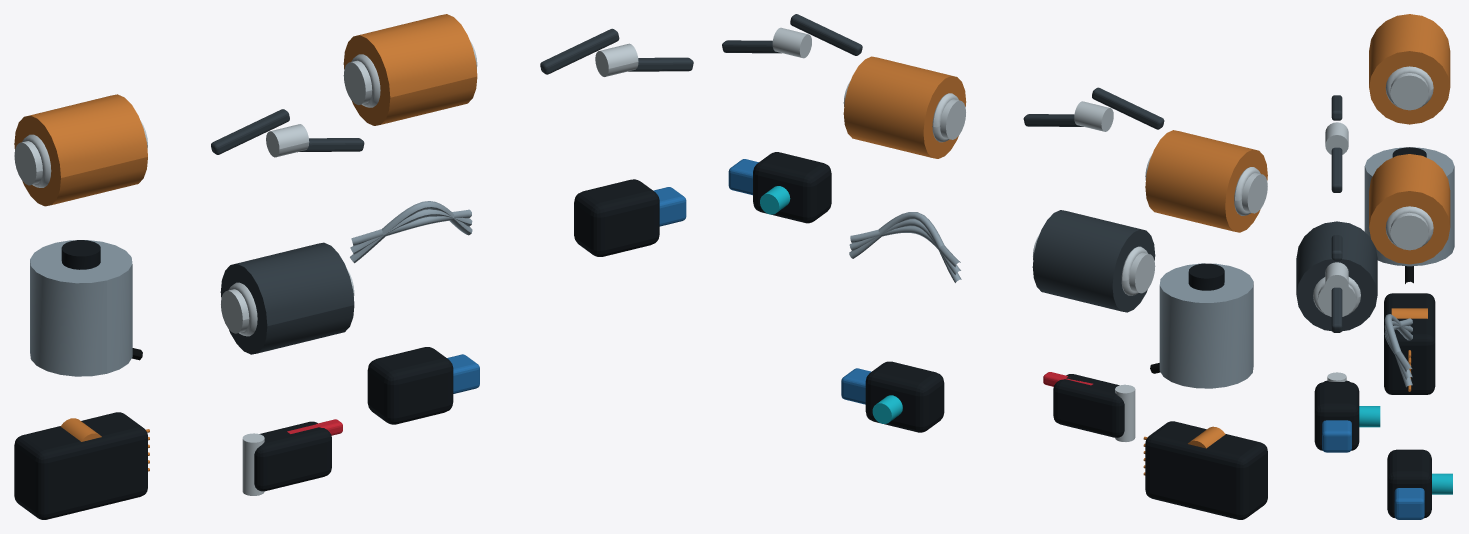
Rendered from generic_wipers.glb.
3 views of the same model, side by side, from view 1: azimuth 30°, elevation 25°; view 2: azimuth 150°, elevation 25°; view 3: azimuth 270°, elevation 25° (orthographic). The views are drawn at different scales.
Parts seen in each view (by area): view 1: system_mesh__washer_reservoir__reservoir, system_mesh__wiper_relay__housing, system_mesh__rear_wiper_motor__stator, system_mesh__front_wiper_motor__stator, system_mesh__washer_pumps__stator, system_mesh__rain_sensor__sealed_body, system_mesh__washer_level_sensor__sealed_body, system_mesh__multifunction_switch__body, system_mesh__rear_wiper_arm__left_link, system_mesh__wiper_linkage__left_link, system_mesh__rear_wiper_arm__pivot, system_mesh__wiper_linkage__pivot (+11 smaller); view 2: system_mesh__washer_reservoir__reservoir, system_mesh__wiper_relay__housing, system_mesh__rear_wiper_motor__stator, system_mesh__front_wiper_motor__stator, system_mesh__washer_pumps__stator, system_mesh__rain_sensor__sealed_body, system_mesh__washer_level_sensor__sealed_body, system_mesh__multifunction_switch__body, system_mesh__rear_wiper_arm__left_link, system_mesh__wiper_linkage__left_link, system_mesh__washer_hoses__route_1, system_mesh__wiper_linkage__pivot (+13 smaller); view 3: system_mesh__rear_wiper_motor__stator, system_mesh__front_wiper_motor__stator, system_mesh__washer_pumps__stator, system_mesh__wiper_relay__housing, system_mesh__washer_level_sensor__sealed_body, system_mesh__rain_sensor__sealed_body, system_mesh__washer_reservoir__reservoir, system_mesh__rear_wiper_motor__rotor, system_mesh__front_wiper_motor__rotor, system_mesh__washer_level_sensor__connector, system_mesh__rain_sensor__connector, system_mesh__washer_pumps__rotor (+16 smaller).
Boxes of the visible parts, x1=… form: system_mesh__washer_reservoir__reservoir: x1=30, y1=240, x2=132, y2=376; system_mesh__wiper_relay__housing: x1=14, y1=412, x2=147, y2=519; system_mesh__rear_wiper_motor__stator: x1=343, y1=14, x2=477, y2=125; system_mesh__front_wiper_motor__stator: x1=14, y1=94, x2=147, y2=206; system_mesh__washer_pumps__stator: x1=220, y1=242, x2=354, y2=354; system_mesh__rain_sensor__sealed_body: x1=367, y1=347, x2=453, y2=424; system_mesh__washer_level_sensor__sealed_body: x1=574, y1=179, x2=659, y2=256; system_mesh__multifunction_switch__body: x1=254, y1=421, x2=331, y2=491; system_mesh__rear_wiper_arm__left_link: x1=540, y1=28, x2=619, y2=74; system_mesh__wiper_linkage__left_link: x1=211, y1=109, x2=289, y2=154; system_mesh__rear_wiper_arm__pivot: x1=595, y1=43, x2=638, y2=76; system_mesh__wiper_linkage__pivot: x1=266, y1=124, x2=309, y2=157; system_mesh__washer_reservoir__reservoir: x1=1159, y1=263, x2=1253, y2=388; system_mesh__wiper_relay__housing: x1=1145, y1=421, x2=1267, y2=519; system_mesh__rear_wiper_motor__stator: x1=843, y1=56, x2=966, y2=158; system_mesh__front_wiper_motor__stator: x1=1145, y1=130, x2=1267, y2=232; system_mesh__washer_pumps__stator: x1=1032, y1=210, x2=1155, y2=312; system_mesh__rain_sensor__sealed_body: x1=865, y1=361, x2=944, y2=432; system_mesh__washer_level_sensor__sealed_body: x1=753, y1=152, x2=831, y2=223; system_mesh__multifunction_switch__body: x1=1053, y1=374, x2=1124, y2=437; system_mesh__rear_wiper_arm__left_link: x1=790, y1=14, x2=862, y2=55; system_mesh__wiper_linkage__left_link: x1=1092, y1=87, x2=1164, y2=129; system_mesh__washer_hoses__route_1: x1=849, y1=212, x2=961, y2=282; system_mesh__wiper_linkage__pivot: x1=1074, y1=101, x2=1113, y2=131; system_mesh__rear_wiper_motor__stator: x1=1369, y1=154, x2=1450, y2=264; system_mesh__front_wiper_motor__stator: x1=1369, y1=14, x2=1450, y2=124; system_mesh__washer_pumps__stator: x1=1296, y1=221, x2=1377, y2=331; system_mesh__wiper_relay__housing: x1=1384, y1=293, x2=1435, y2=394; system_mesh__washer_level_sensor__sealed_body: x1=1314, y1=382, x2=1359, y2=450; system_mesh__rain_sensor__sealed_body: x1=1387, y1=449, x2=1431, y2=518; system_mesh__washer_reservoir__reservoir: x1=1364, y1=147, x2=1454, y2=266; system_mesh__rear_wiper_motor__rotor: x1=1390, y1=212, x2=1428, y2=250; system_mesh__front_wiper_motor__rotor: x1=1390, y1=73, x2=1428, y2=110; system_mesh__washer_level_sensor__connector: x1=1322, y1=420, x2=1351, y2=452; system_mesh__rain_sensor__connector: x1=1394, y1=488, x2=1424, y2=519; system_mesh__washer_pumps__rotor: x1=1317, y1=284, x2=1356, y2=316.
Bounding box in the file's own units: 5.88 × 3.53 × 1.48.
